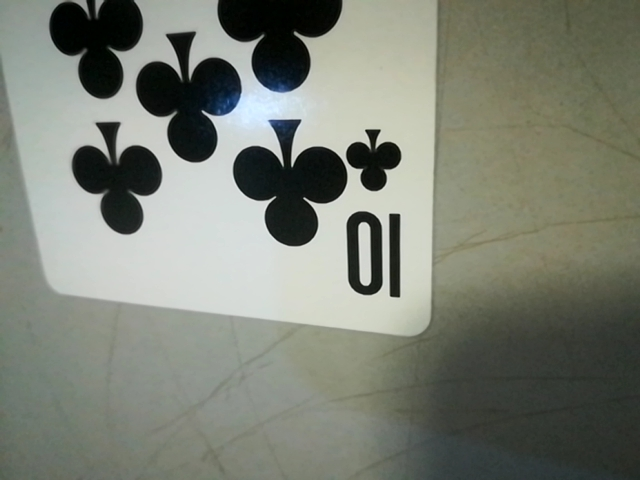mh 10: (335, 119, 420, 315)
